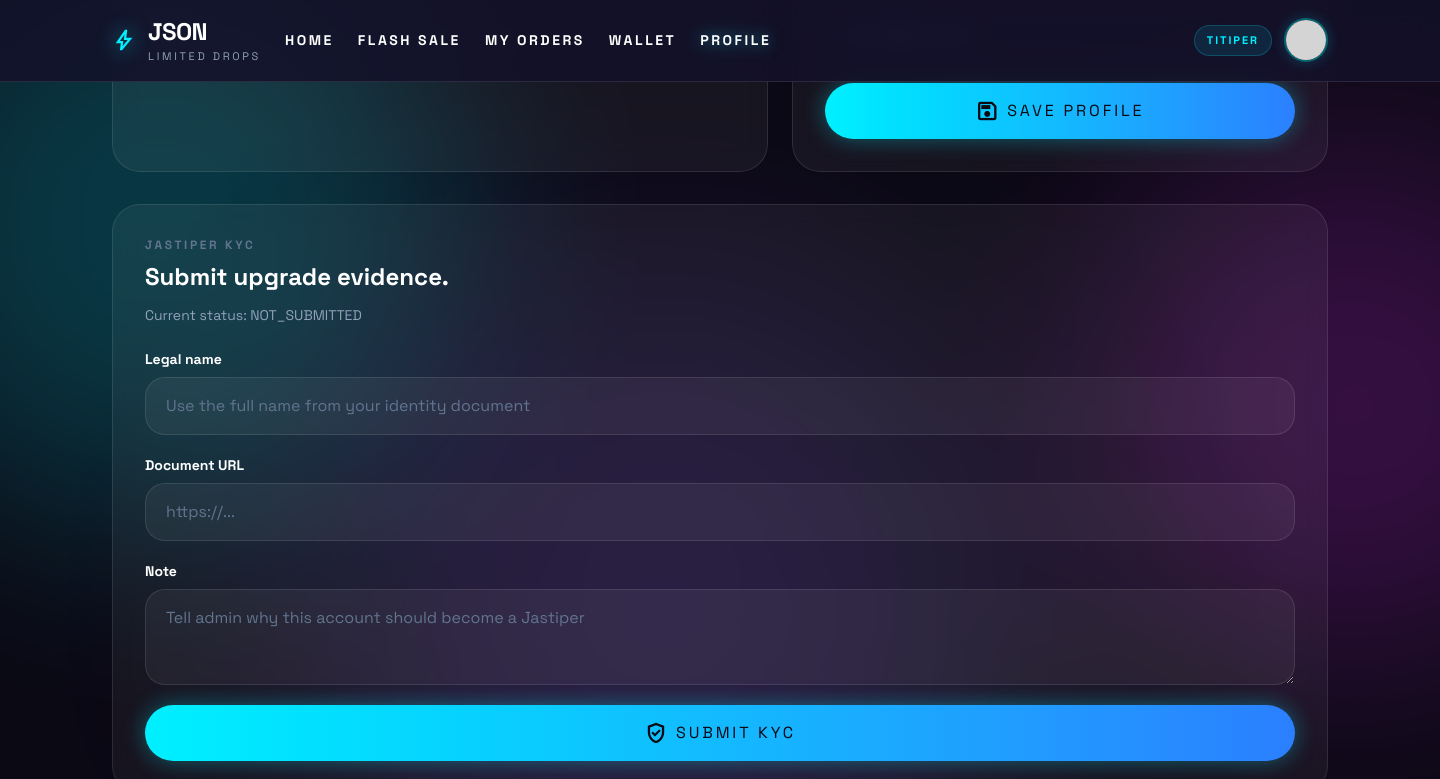
Test case: edge page and regression flows › requires a legal name and saves it before submitting KYC
(page scrolled)
Step 1. Type "Budi" into the field with test id "kyc-full-name" → (720,406), box [145, 376, 1295, 434]
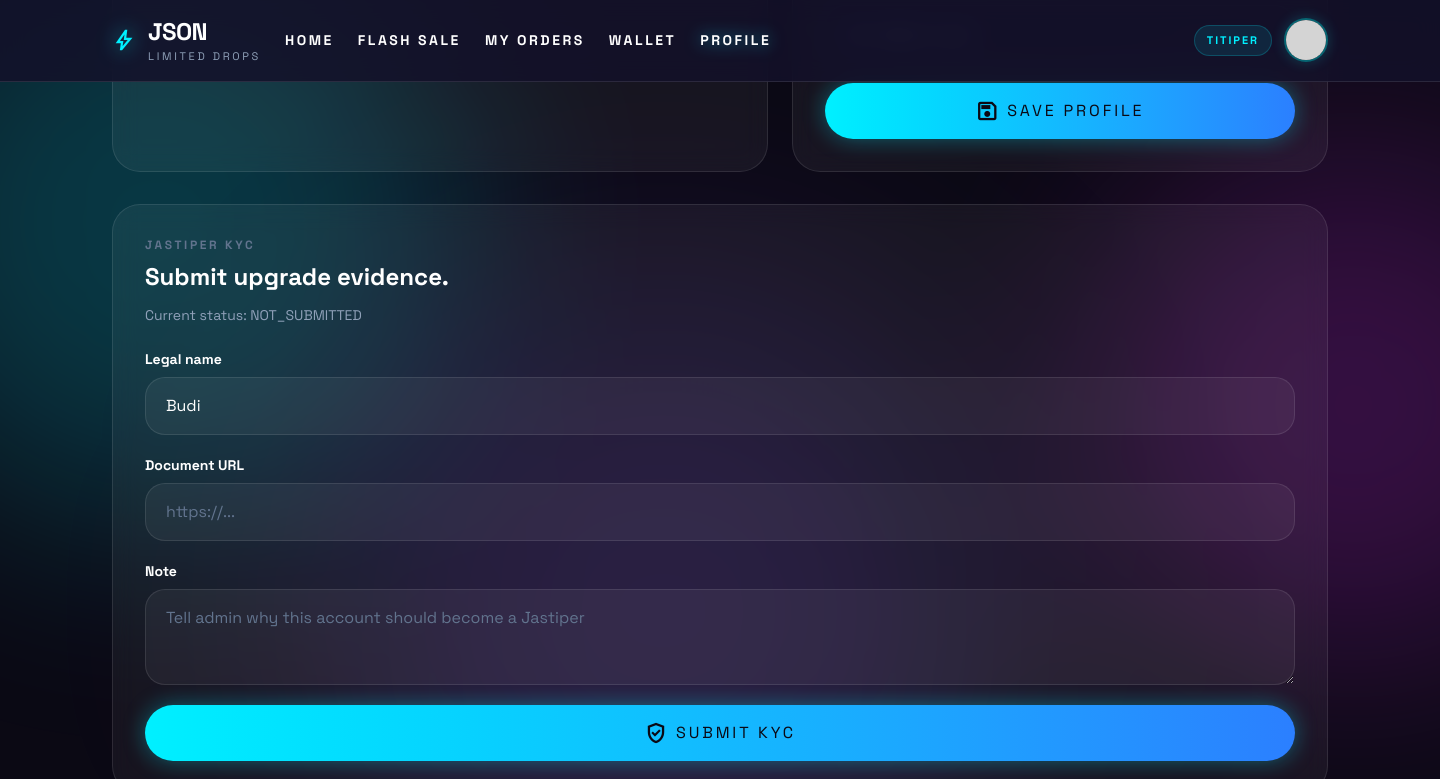
Step 2. Type "https://docs.example/budi.pdf" into the field with test id "kyc-document-url" → (720,512), box [145, 482, 1295, 540]
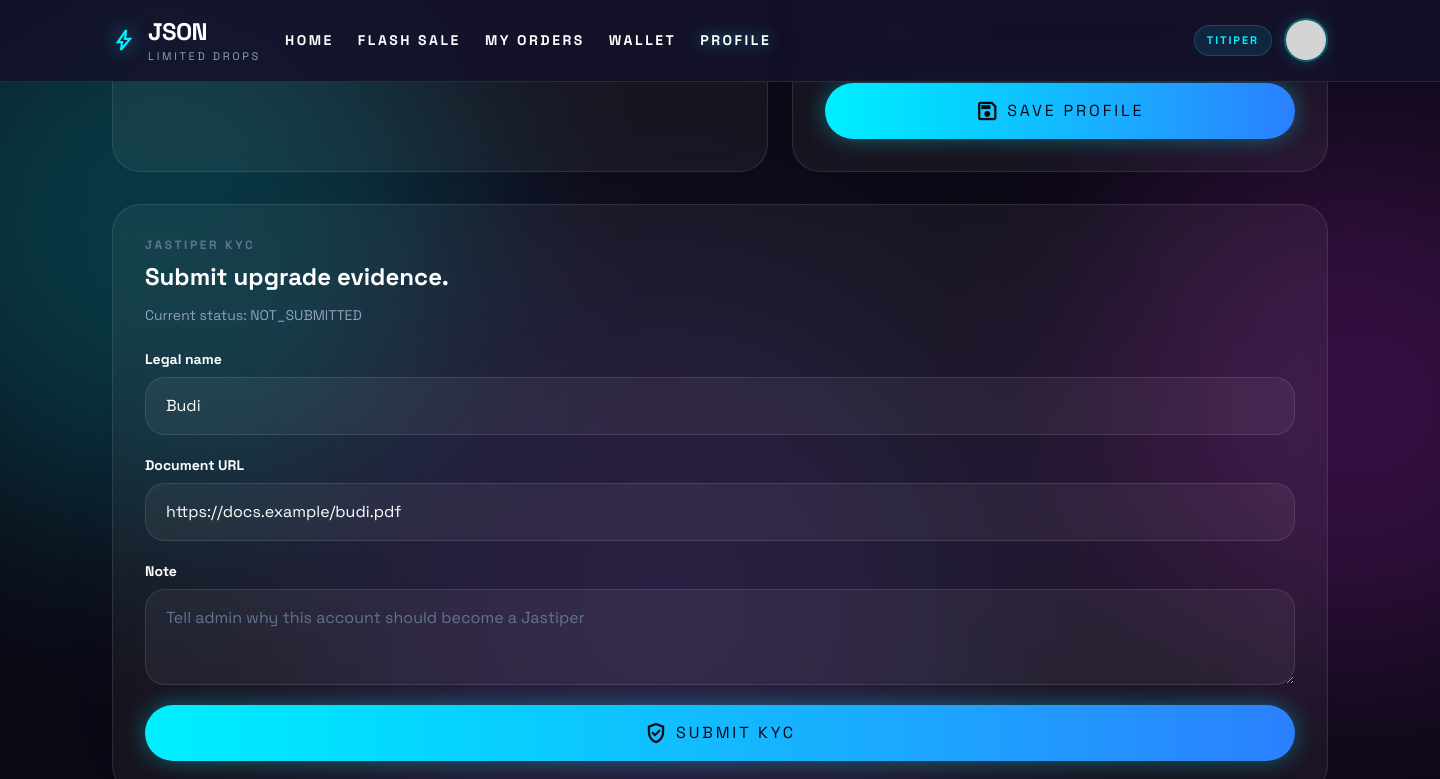
Step 3. Click the button with test id "submit-kyc-button" → (720,732), box [145, 704, 1295, 760]
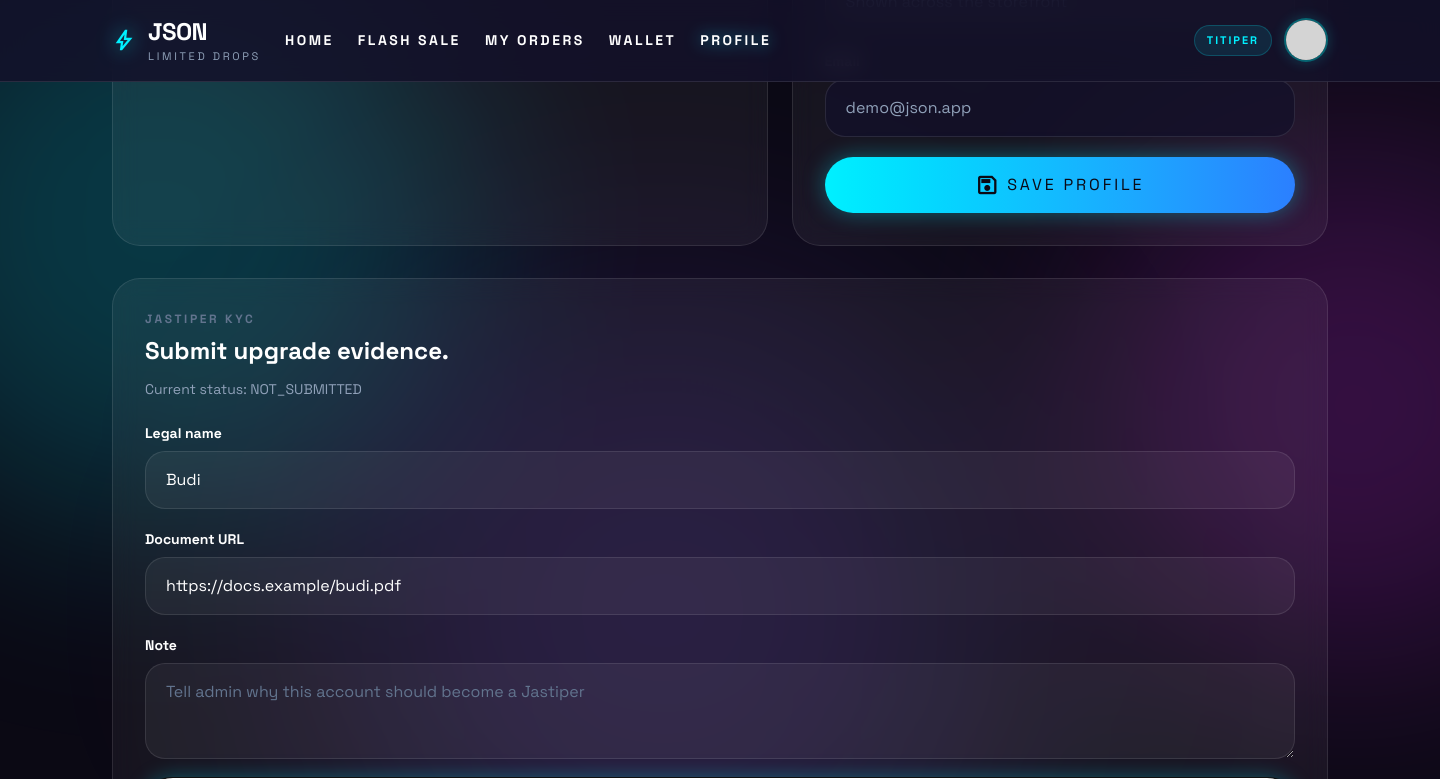
Step 4. Replace the text in the field with test id "kyc-full-name" with "Budi Santoso" → (720,480), box [145, 450, 1295, 508]
(page scrolled)
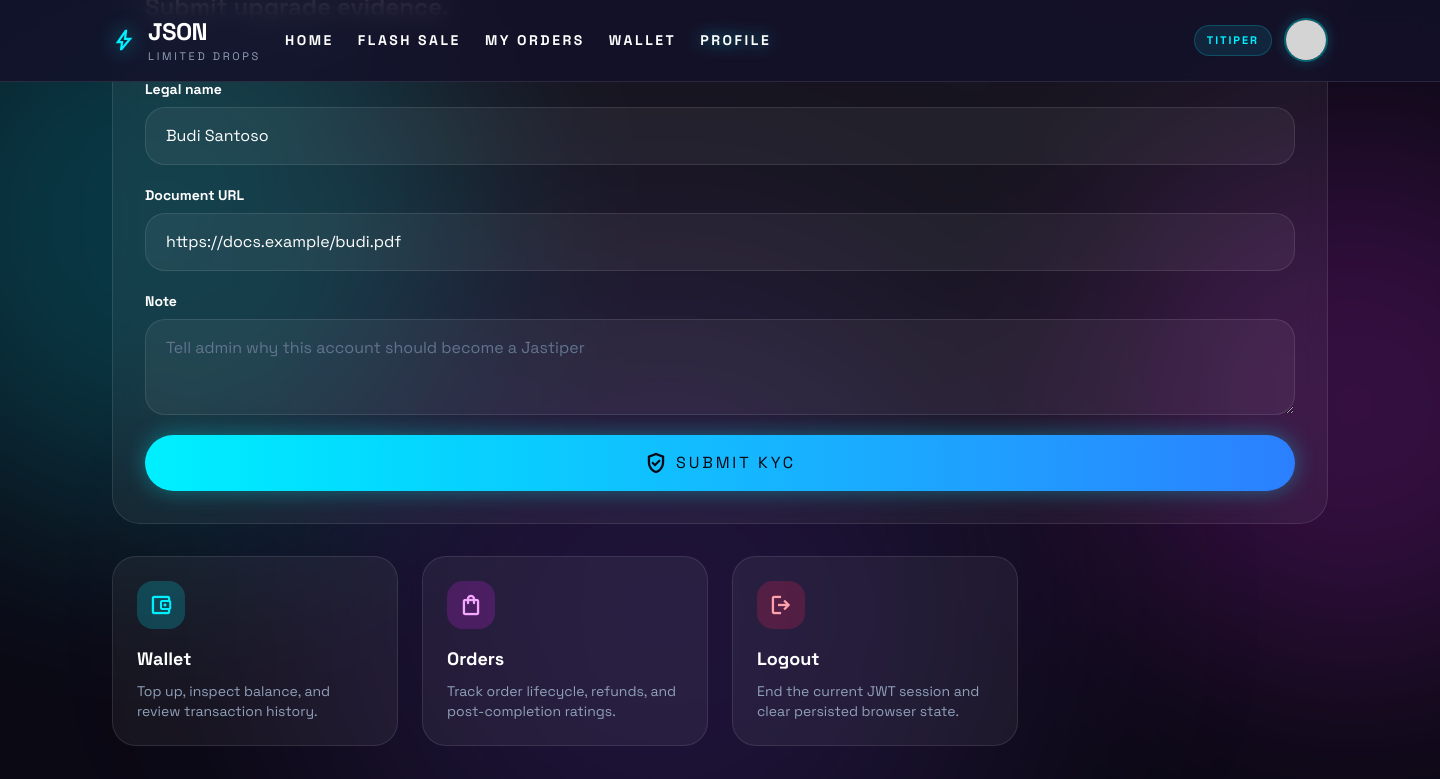
Step 5. Click the button with test id "submit-kyc-button" → (720,462), box [145, 434, 1295, 490]
(page scrolled)
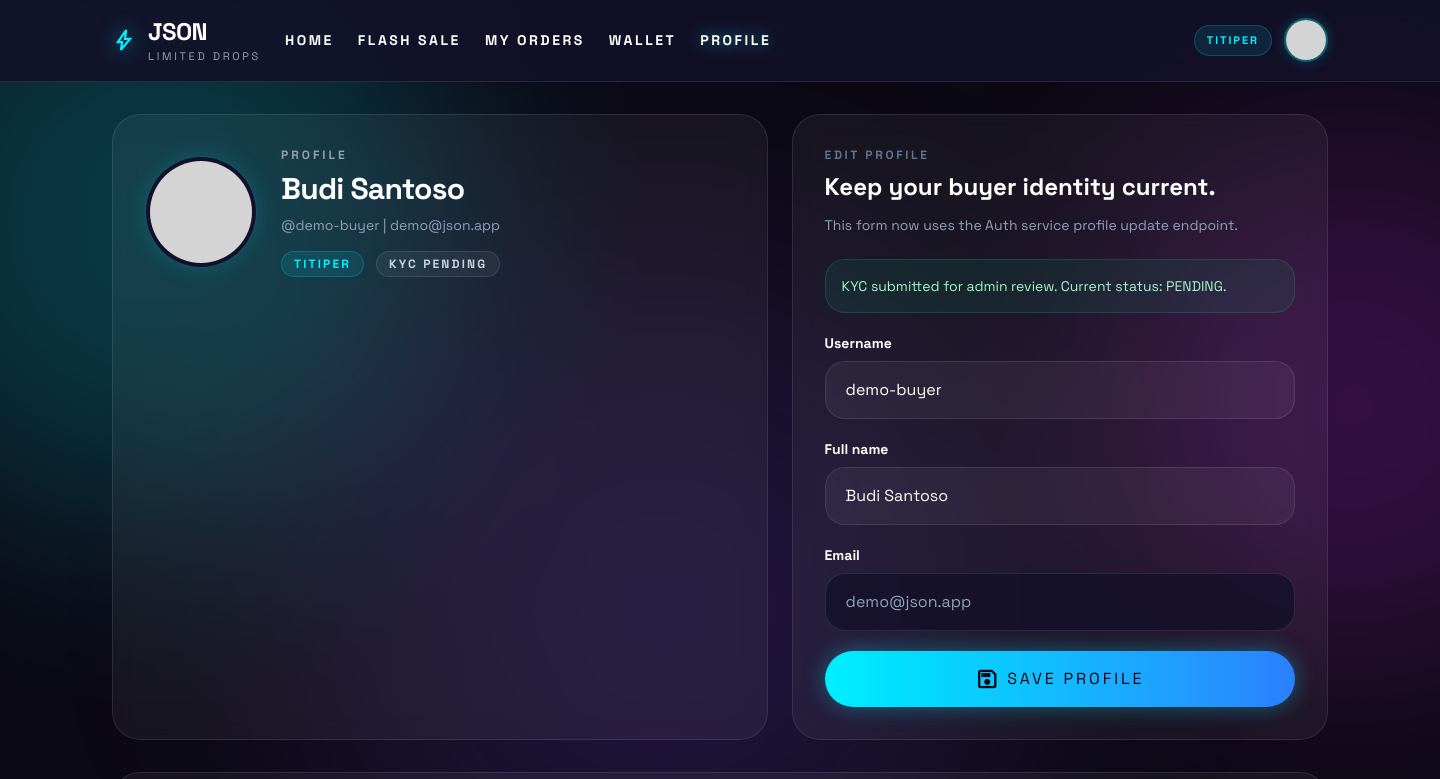
Check: the text "KYC submitted for admin review. Current status: PENDING." is shown, box [825, 258, 1295, 312]
